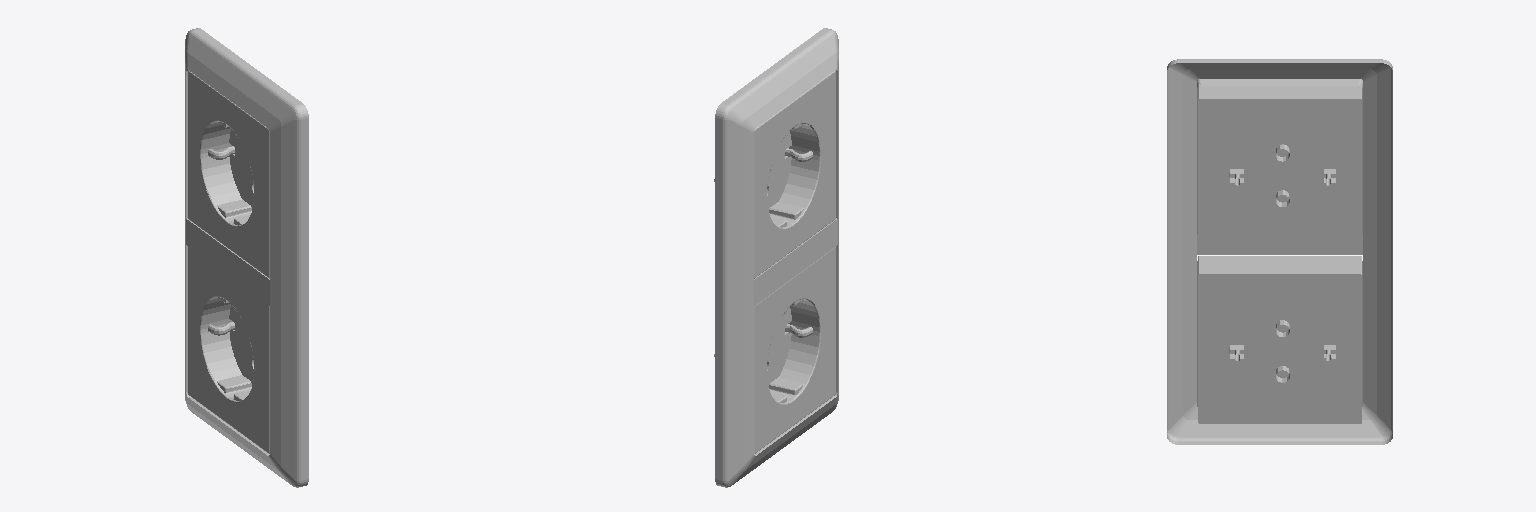
The model's file is SM_Socket_005.obj.
3 views of the same model, side by side, from view 1: azimuth 30°, elevation 25°; view 2: azimuth 150°, elevation 25°; view 3: azimuth 270°, elevation 25° (orthographic).
Parts seen in each view (by area): view 1: SM_Socket_005; view 2: SM_Socket_005; view 3: SM_Socket_005.
Part boxes in pixels (bbox=[...]): SM_Socket_005: bbox=[185, 28, 308, 487]; SM_Socket_005: bbox=[714, 28, 838, 487]; SM_Socket_005: bbox=[1167, 59, 1392, 444].
Size of the model in its own units: 0.023 by 0.1496 by 0.0805.